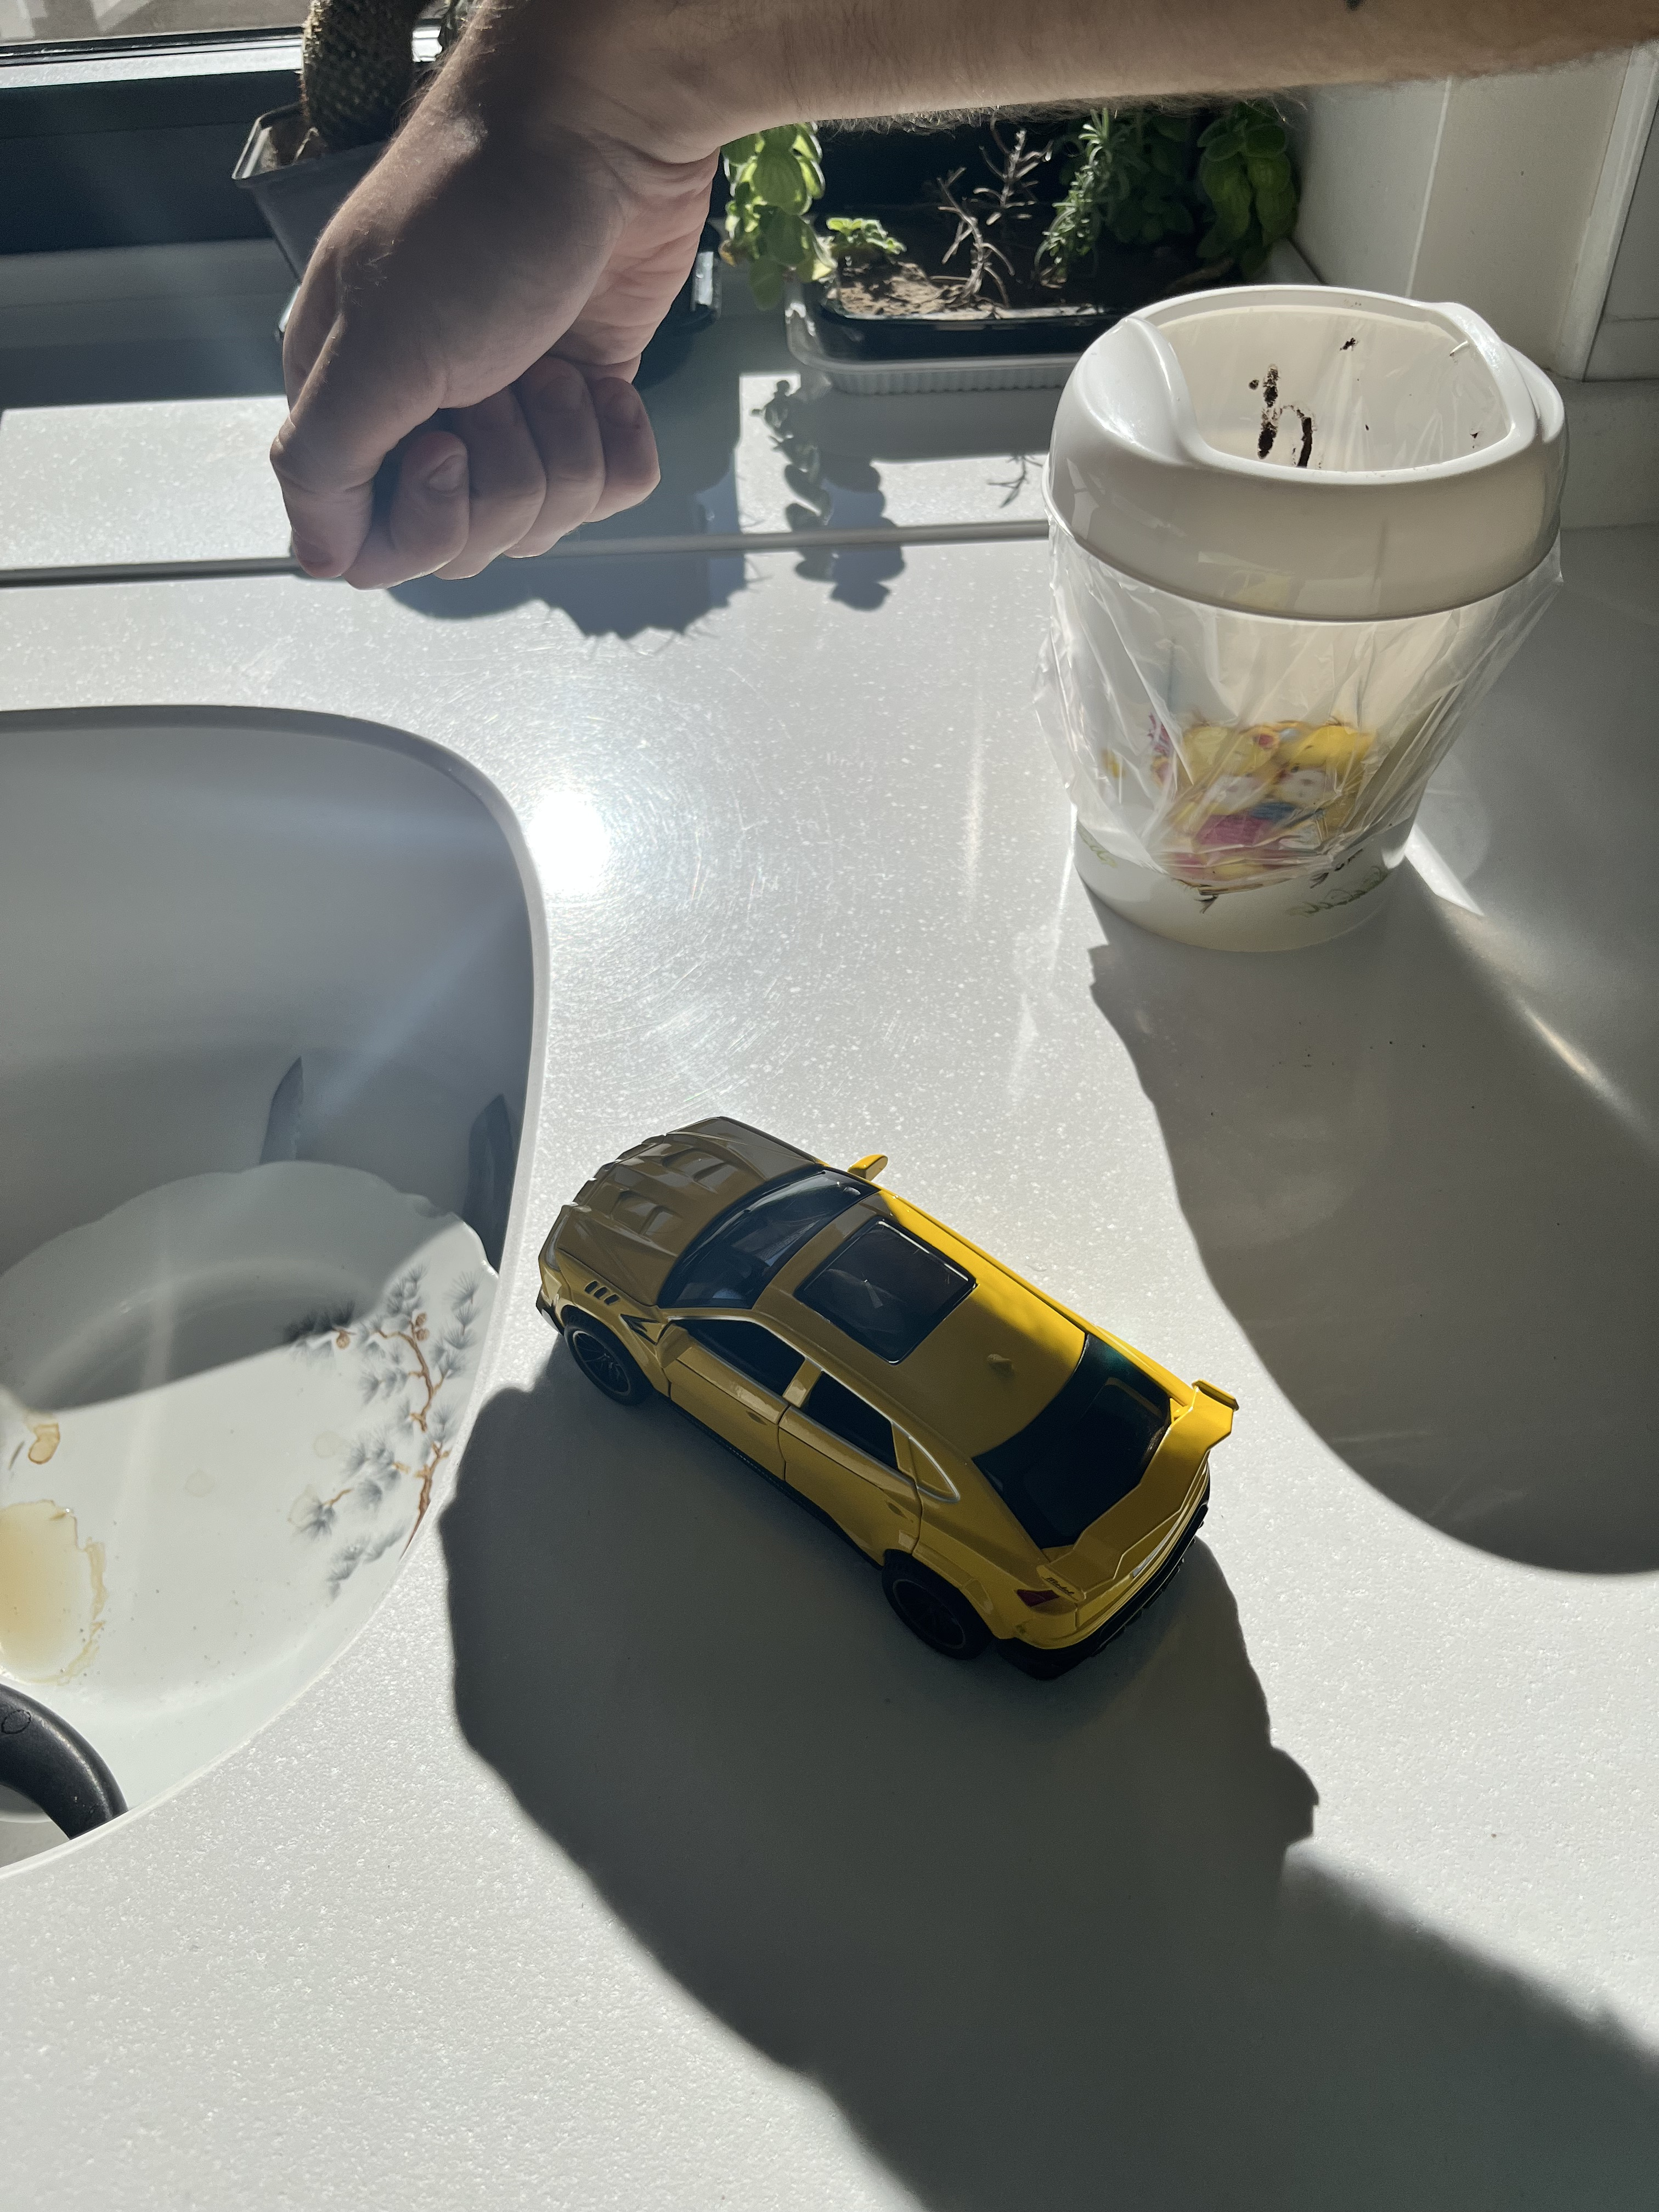lambo: (519, 1099, 1249, 1672)
